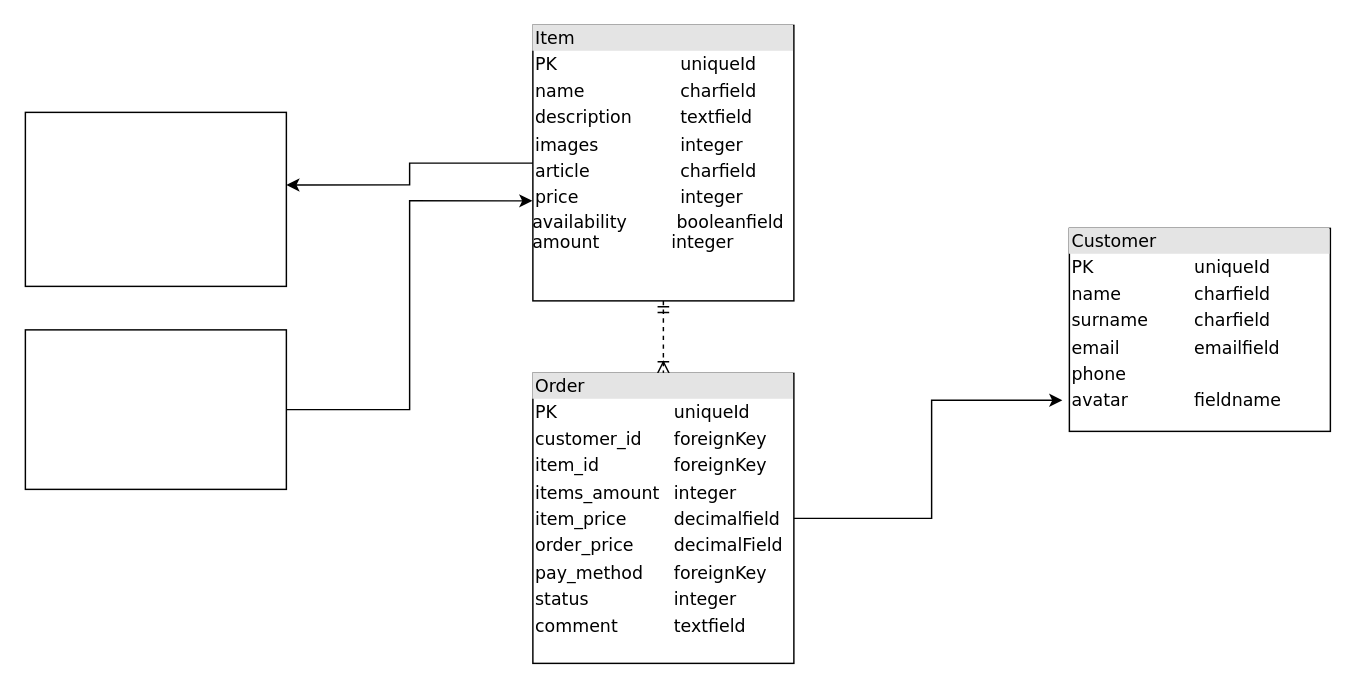
This 1356x689 diagram has some shape labels left out. The centre of each missing label's shape, as x and y in pixels:
"Category PK uniqueId title charfield image imagefield items_amount integer" goes at pixel 155 198.
"Manufacturer PK uniqueId title charfield description textfield logo imagefield" goes at pixel 155 408.
